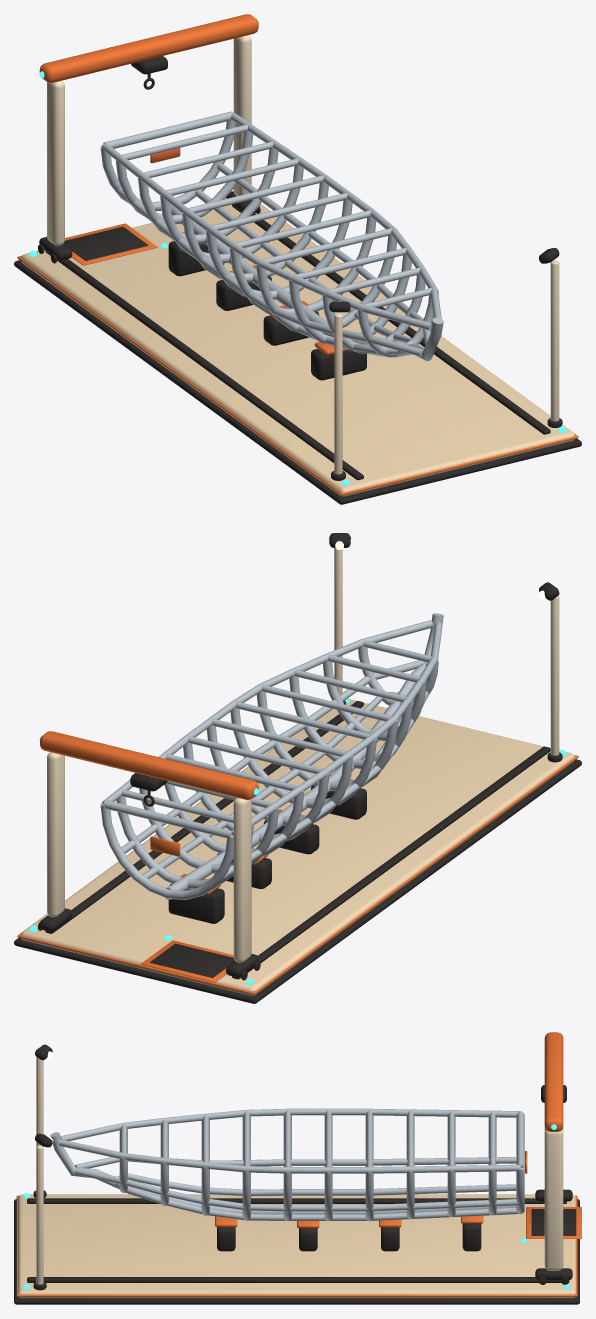
The model's file is dock-4.glb.
3 renders of one model, top to bottom at view 1: azimuth 30°, elevation 25°; view 2: azimuth 150°, elevation 25°; view 3: azimuth 270°, elevation 25°, orthographic. The views are drawn at different scales.
Visible parts, largest first — view 1: Cube.001, pipe, Cube, Cube.002, Cube.017; view 2: Cube.001, pipe, Cube, Cube.017, Cube.002; view 3: Cube.001, pipe, Cube, Cube.002, Cube.017.
Part boxes in pixels (bbox=[...]): Cube.001: bbox=[21, 204, 574, 496]; pipe: bbox=[100, 111, 443, 360]; Cube: bbox=[14, 56, 581, 504]; Cube.002: bbox=[17, 14, 578, 495]; Cube.017: bbox=[47, 35, 559, 474]; Cube.001: bbox=[21, 699, 574, 995]; pipe: bbox=[100, 613, 443, 899]; Cube: bbox=[14, 533, 581, 1003]; Cube.017: bbox=[47, 548, 559, 962]; Cube.002: bbox=[17, 731, 578, 994]; Cube.001: bbox=[18, 1194, 575, 1298]; pipe: bbox=[50, 1108, 524, 1221]; Cube: bbox=[14, 1044, 579, 1304]; Cube.002: bbox=[16, 1032, 581, 1296]; Cube.017: bbox=[36, 1057, 563, 1284].
Bounding box in the file's own units: 1.3 × 1.06 × 3.05.
